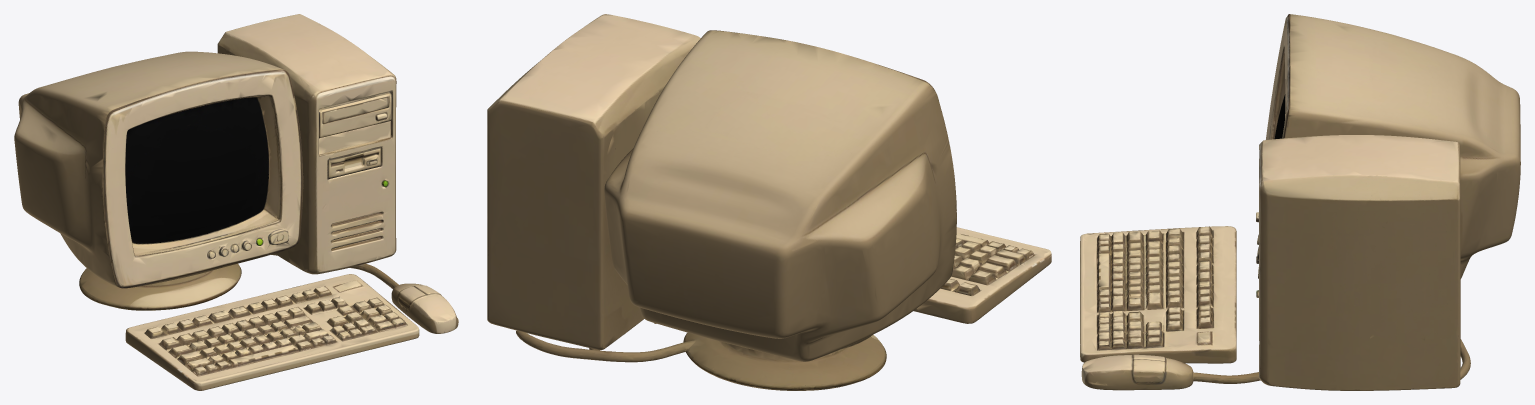
File: library-computer.glb
The picture shows the model from 3 angles, left to right: view 1: azimuth 30°, elevation 25°; view 2: azimuth 150°, elevation 25°; view 3: azimuth 270°, elevation 25°; orthographic projection. The views are drawn at different scales.
Visible parts, largest first — view 1: node_0; view 2: node_0; view 3: node_0.
Part boxes in pixels (x1,y1,x2,y2): node_0: [14, 14, 458, 390]; node_0: [487, 14, 1051, 390]; node_0: [1080, 14, 1520, 390].
Size of the model in its own units: 0.7758 by 0.5275 by 0.8657.
Materials: 1 (1 with a texture image).
